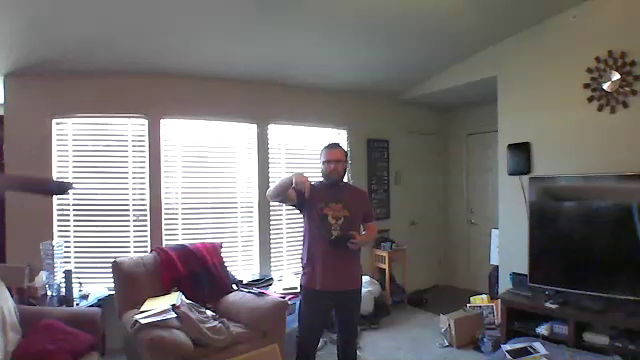down: (288, 165, 312, 203)
